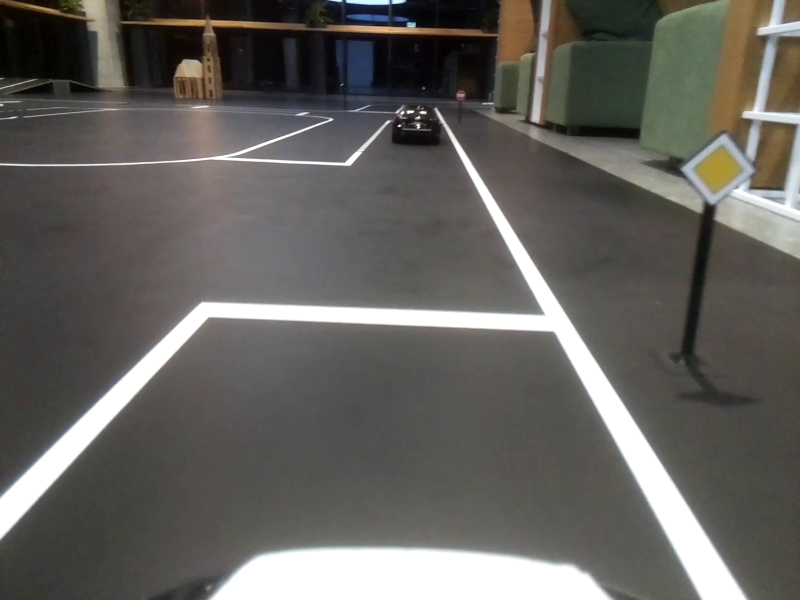priority: (677, 132, 759, 204)
